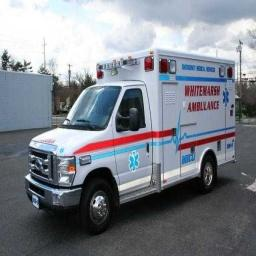Ambulance: (25, 49, 234, 233)
